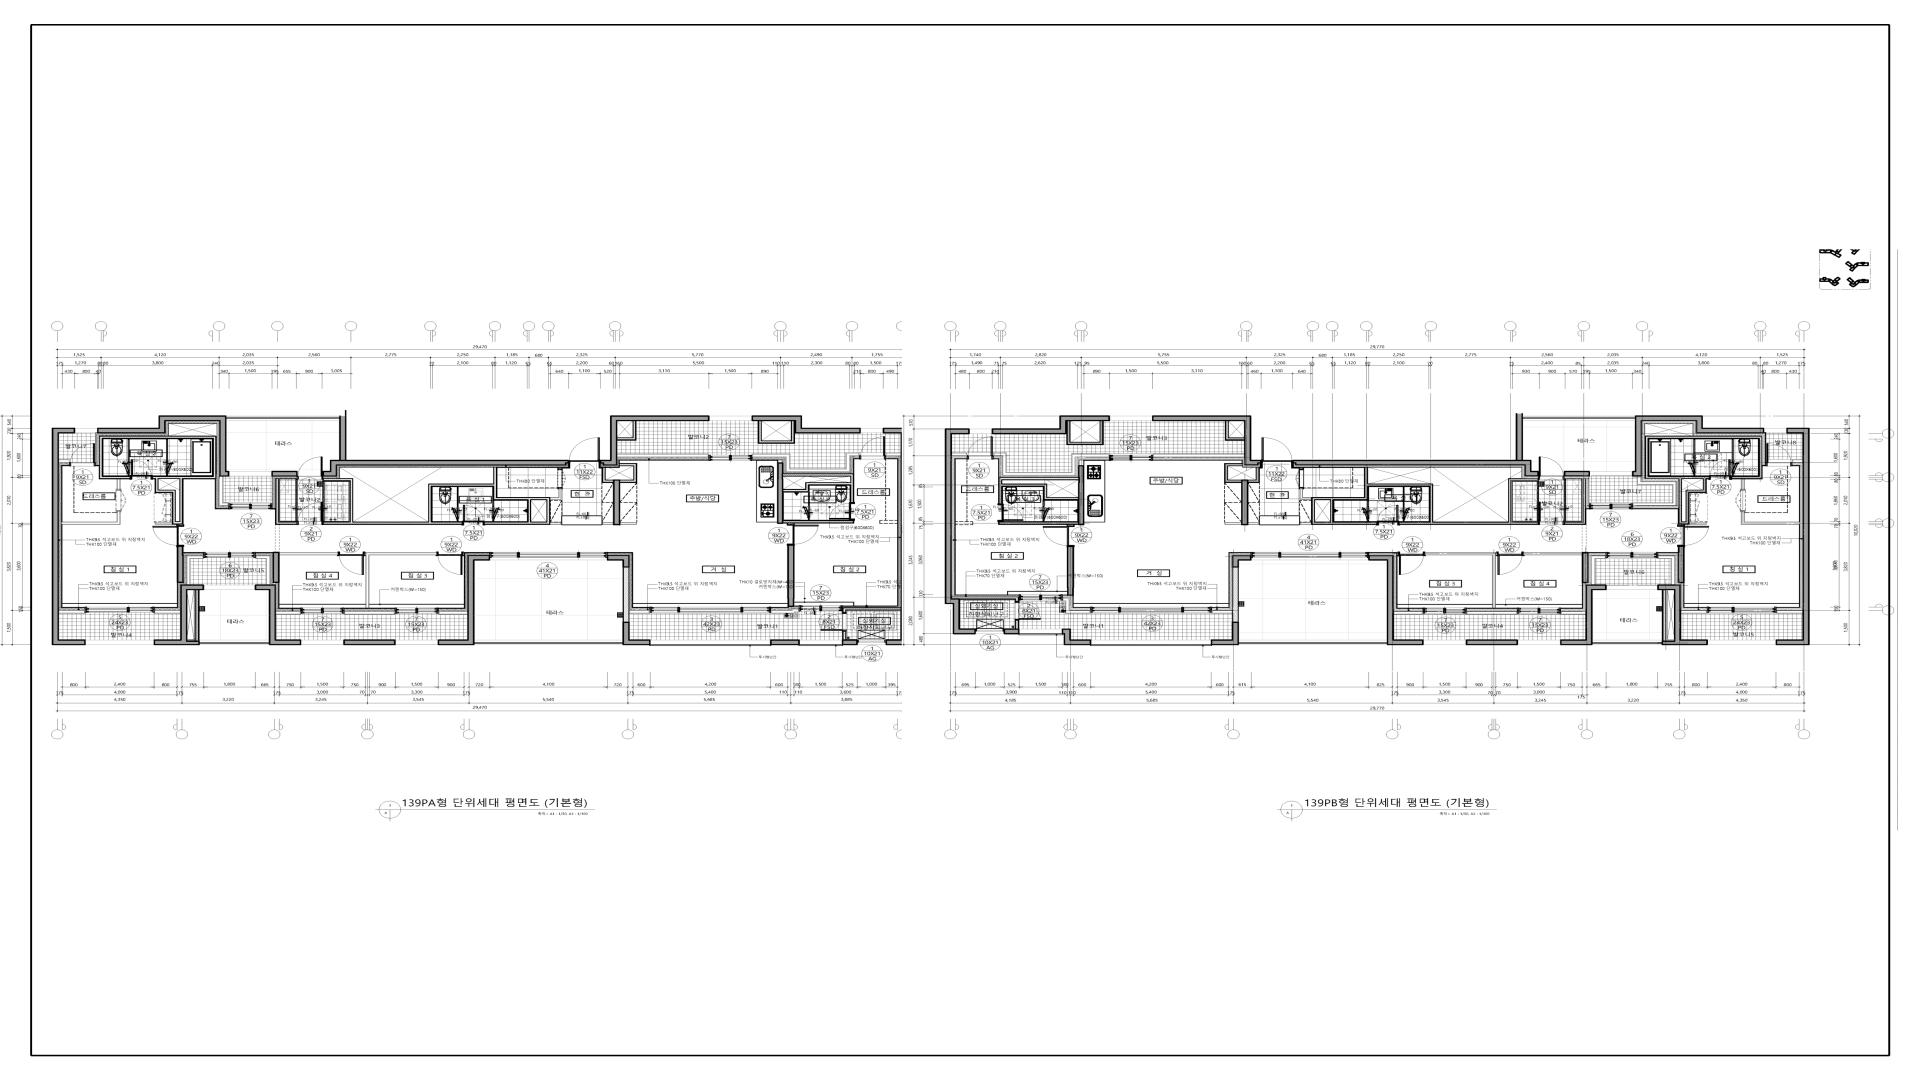door: (1261, 438, 1292, 468), (568, 438, 600, 468), (1677, 525, 1709, 547), (1043, 525, 1075, 547), (153, 525, 185, 547), (787, 524, 819, 546), (1495, 551, 1523, 575), (338, 551, 365, 575), (436, 551, 464, 575), (967, 436, 993, 460), (1766, 443, 1792, 467), (1398, 551, 1424, 575), (297, 501, 323, 525), (860, 436, 886, 460), (1539, 456, 1564, 480), (1539, 501, 1564, 525), (70, 443, 95, 467), (298, 456, 323, 480), (820, 612, 847, 632), (1014, 601, 1040, 620), (1709, 459, 1731, 480), (1377, 505, 1399, 526), (131, 459, 153, 480), (462, 505, 484, 526), (997, 504, 1023, 521), (829, 502, 855, 520), (1735, 489, 1746, 512), (116, 492, 127, 510)
wall: (1294, 414, 1539, 476), (323, 415, 568, 476), (323, 467, 562, 525), (1300, 467, 1539, 525), (1646, 435, 1763, 525), (99, 435, 216, 525), (98, 415, 229, 476), (1633, 415, 1764, 476), (51, 427, 86, 645), (1776, 427, 1809, 645), (944, 429, 976, 634), (882, 427, 909, 645), (600, 415, 709, 465), (1153, 415, 1261, 465), (1369, 555, 1424, 645), (438, 555, 491, 645), (365, 553, 436, 608), (1425, 553, 1495, 608), (154, 584, 204, 645), (1658, 584, 1708, 645), (255, 584, 301, 645), (993, 452, 1109, 476), (1561, 584, 1606, 645), (992, 415, 1110, 434), (753, 452, 860, 472), (998, 477, 1077, 504), (783, 473, 855, 502), (752, 415, 861, 434), (622, 567, 650, 621), (1212, 567, 1238, 622), (1633, 477, 1677, 506), (1564, 479, 1586, 525), (276, 479, 297, 525), (1067, 421, 1104, 446), (758, 421, 795, 444), (62, 510, 120, 525), (1240, 640, 1387, 645), (475, 640, 622, 645), (1741, 512, 1799, 525), (622, 621, 650, 645), (1211, 622, 1240, 645), (227, 415, 339, 421), (1658, 555, 1675, 584), (186, 555, 203, 584), (787, 546, 795, 607), (1063, 629, 1092, 645), (1523, 417, 1635, 421), (1063, 597, 1091, 613), (1592, 555, 1606, 584), (256, 555, 270, 584), (777, 463, 783, 524), (617, 421, 637, 440), (1077, 465, 1084, 525), (1067, 547, 1075, 596), (617, 454, 709, 458), (1224, 463, 1242, 483), (1225, 421, 1244, 440), (1593, 640, 1662, 645), (200, 640, 269, 645), (1153, 454, 1244, 458), (1241, 480, 1249, 525), (952, 596, 1019, 601), (620, 463, 637, 483), (998, 521, 1077, 525), (613, 480, 620, 525), (783, 520, 855, 524), (607, 555, 630, 567), (1677, 547, 1685, 583), (344, 640, 396, 645), (1466, 640, 1518, 645), (219, 477, 228, 506), (1581, 551, 1589, 583), (177, 547, 183, 583), (1232, 555, 1251, 567), (843, 608, 901, 612), (273, 551, 280, 583), (1662, 591, 1665, 641), (195, 591, 199, 641), (344, 611, 394, 615), (601, 468, 613, 483), (1249, 467, 1259, 483), (770, 640, 800, 645), (280, 553, 338, 555), (1523, 553, 1581, 555), (272, 471, 298, 476), (1564, 471, 1590, 476), (1466, 612, 1518, 615), (439, 611, 467, 615), (771, 609, 799, 613), (276, 611, 301, 615), (1561, 611, 1585, 615), (843, 640, 858, 645), (1004, 629, 1019, 634), (1394, 612, 1423, 615), (1681, 611, 1708, 613), (1776, 611, 1803, 613), (154, 611, 181, 613), (59, 611, 86, 613), (952, 452, 967, 456), (886, 452, 901, 456), (758, 521, 777, 524), (620, 522, 637, 525), (1792, 459, 1803, 463), (59, 459, 70, 463), (1225, 522, 1241, 525), (1015, 620, 1019, 629), (843, 632, 847, 640), (1079, 460, 1084, 465), (603, 522, 613, 525), (1249, 522, 1259, 525), (778, 460, 783, 463)
window: (1251, 553, 1369, 560), (491, 553, 607, 560), (1091, 607, 1212, 613), (650, 607, 771, 613), (650, 640, 770, 646), (1092, 640, 1211, 646), (1708, 607, 1776, 613), (86, 607, 154, 613), (86, 640, 154, 645), (1708, 640, 1776, 645), (1109, 454, 1153, 462), (1019, 628, 1063, 636), (1606, 553, 1658, 559), (1424, 637, 1466, 645), (1423, 608, 1466, 615), (1518, 608, 1561, 615), (1589, 502, 1633, 509), (799, 605, 843, 612), (1019, 595, 1063, 601), (709, 455, 752, 462), (800, 640, 843, 646), (203, 553, 256, 558), (228, 504, 273, 509), (394, 608, 439, 613), (301, 608, 344, 613), (709, 415, 752, 421), (301, 640, 343, 645), (396, 640, 438, 645), (1518, 640, 1560, 645), (1606, 585, 1658, 589), (204, 585, 255, 589), (229, 472, 272, 476), (1110, 417, 1153, 421), (1590, 472, 1633, 476), (976, 629, 1004, 634), (858, 640, 886, 645), (969, 429, 992, 434), (75, 429, 98, 433), (1764, 429, 1787, 433), (861, 429, 882, 433)
